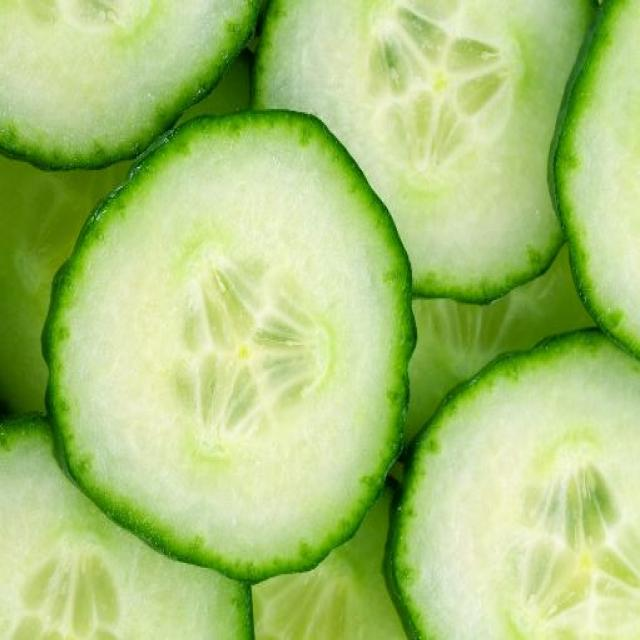cucumber: (38, 97, 418, 592), (242, 0, 606, 313), (378, 297, 640, 639), (0, 405, 309, 639), (533, 0, 640, 367)
